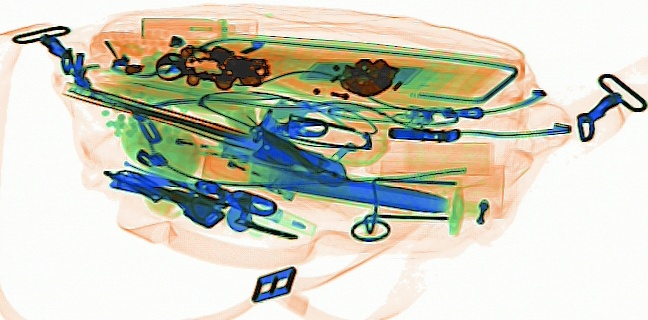lighter: (201, 149, 296, 202), (157, 126, 250, 163)
